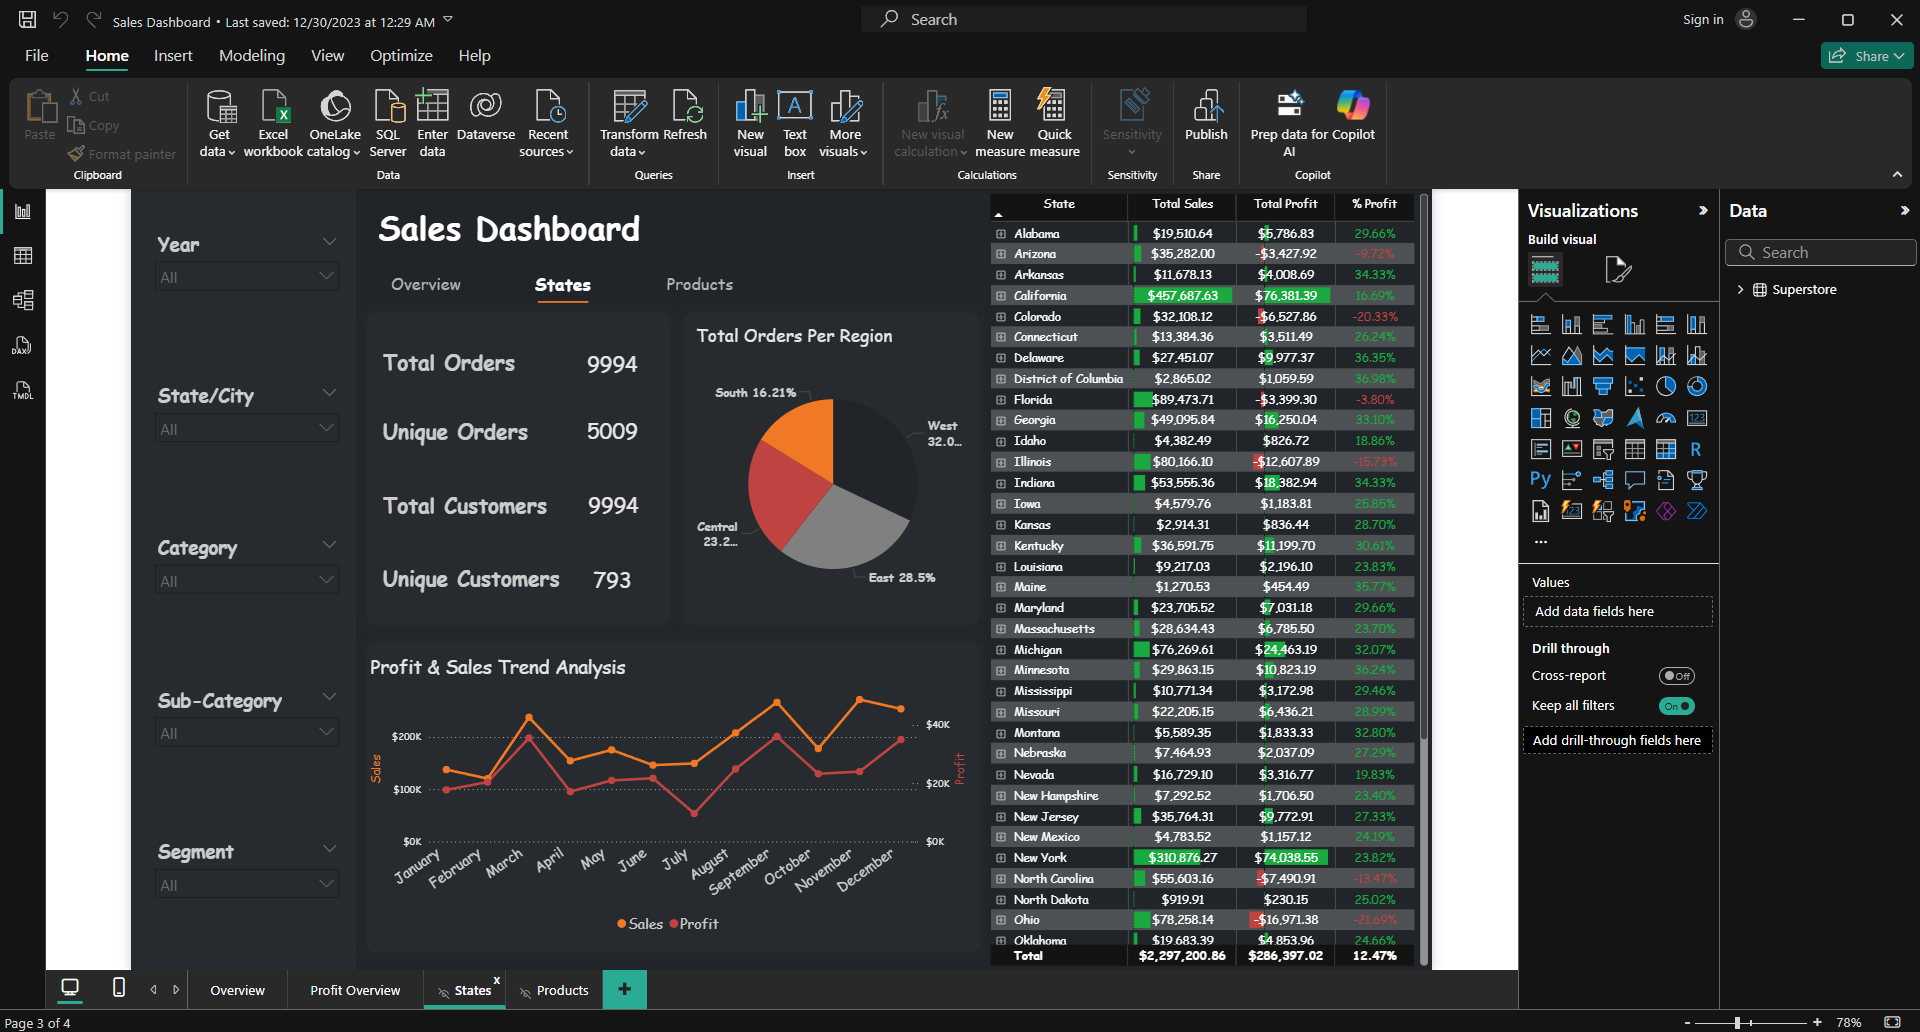

The dashboard page shown, as its layout file describes it:
{"tool":"powerbi","page":{"name":"States","canvas":[1500,900],"ordinal":2},"visuals":[{"type":"shape","box":[271.1,142.1,350,360.6],"z":0},{"type":"shape","box":[636.9,142.1,340.8,360.6],"z":1000},{"type":"shape","box":[271.1,521.1,707.9,357.9],"z":2000},{"type":"pivotTable","fields":{"Rows":["Superstore.State","Superstore.City"],"Values":["Sum(Superstore.Sales)","Sum(Superstore.Profit)","Superstore.% Profit"]},"box":[985.6,0,514.5,900.1],"z":3000},{"type":"shape","box":[0,0,259.7,900.6],"z":4000},{"type":"slicer","title":"City ","fields":{"Values":["Superstore.State","Superstore.City"]},"box":[17.6,217.3,231.8,110.2],"z":5000},{"type":"slicer","title":"City ","fields":{"Values":["Superstore.Category"]},"box":[17.6,392.3,231.8,110.2],"z":6000},{"type":"slicer","title":"City ","fields":{"Values":["Superstore.Segment"]},"box":[17.5,742.3,232,110],"z":7000},{"type":"slicer","title":"City ","fields":{"Values":["Superstore.Order Date.Variation.Date Hierarchy.Year"]},"box":[17.5,42.5,232,110],"z":8000},{"type":"slicer","title":"City ","fields":{"Values":["Superstore.Sub-Category"]},"box":[17.6,567.3,231.8,110.2],"z":9000},{"type":"lineChart","title":"Profit & Sales Trend Analysis","fields":{"Y":["Sum(Superstore.Sales)"],"Category":["Superstore.Order Date.Variation.Date Hierarchy.Quarter","Superstore.Order Date.Variation.Date Hierarchy.Month"],"Y2":["Sum(Superstore.Profit)"]},"box":[271.1,535.6,700,331.6],"z":10000},{"type":"pieChart","title":"Total Orders Per Region","fields":{"Y":["CountNonNull(Superstore.Order ID)"],"Category":["Superstore.Region"]},"box":[646,154.5,325.5,339.5],"z":11000},{"type":"textbox","box":[285.5,177.6,189.5,48.7],"z":12000},{"type":"card","fields":{"Values":["CountNonNull(Superstore.Order ID)"]},"box":[498.7,175,111.8,56.6],"z":13000},{"type":"card","fields":{"Values":["Count(Superstore.Order ID)"]},"box":[498.7,251,111.8,57.9],"z":14000},{"type":"textbox","box":[285,256.3,190.8,48.7],"z":15000},{"type":"textbox","box":[285.5,341.8,207.9,48.7],"z":16000},{"type":"textbox","box":[285.5,426.3,222.4,48.7],"z":17000},{"type":"card","fields":{"Values":["CountNonNull(Superstore.Customer ID)"]},"box":[499.3,337.2,111.8,56.6],"z":18000},{"type":"card","fields":{"Values":["Count(Superstore.Customer ID)"]},"box":[498.7,422.4,111.8,57.9],"z":19000},{"type":"pageNavigator","box":[266,84.9,464.9,48.1],"z":20000},{"type":"shape","box":[468.7,114,58.3,31.7],"z":21000},{"type":"textbox","box":[279.9,11.4,347.1,69.7],"z":22000}]}

Visuals, with their boxes on the page's 1500x900 design canvas (x1, y1, x2, y2). These are canvas units, not pixel positions in the 1920x1032 screenshot, which may show the page scaled, cropped or inside an application window:
shape: <region>271, 142, 621, 503</region>
shape: <region>637, 142, 978, 503</region>
shape: <region>271, 521, 979, 879</region>
pivotTable - Superstore.State x Superstore.City: <region>986, 0, 1500, 900</region>
shape: <region>0, 0, 260, 901</region>
"City " slicer: <region>18, 217, 249, 328</region>
"City " slicer: <region>18, 392, 249, 502</region>
"City " slicer: <region>18, 742, 250, 852</region>
"City " slicer: <region>18, 42, 250, 152</region>
"City " slicer: <region>18, 567, 249, 678</region>
"Profit & Sales Trend Analysis" lineChart: <region>271, 536, 971, 867</region>
"Total Orders Per Region" pieChart: <region>646, 154, 972, 494</region>
textbox: <region>286, 178, 475, 226</region>
card - CountNonNull(Superstore.Order ID): <region>499, 175, 610, 232</region>
card - Count(Superstore.Order ID): <region>499, 251, 610, 309</region>
textbox: <region>285, 256, 476, 305</region>
textbox: <region>286, 342, 493, 390</region>
textbox: <region>286, 426, 508, 475</region>
card - CountNonNull(Superstore.Customer ID): <region>499, 337, 611, 394</region>
card - Count(Superstore.Customer ID): <region>499, 422, 610, 480</region>
pageNavigator: <region>266, 85, 731, 133</region>
shape: <region>469, 114, 527, 146</region>
textbox: <region>280, 11, 627, 81</region>
